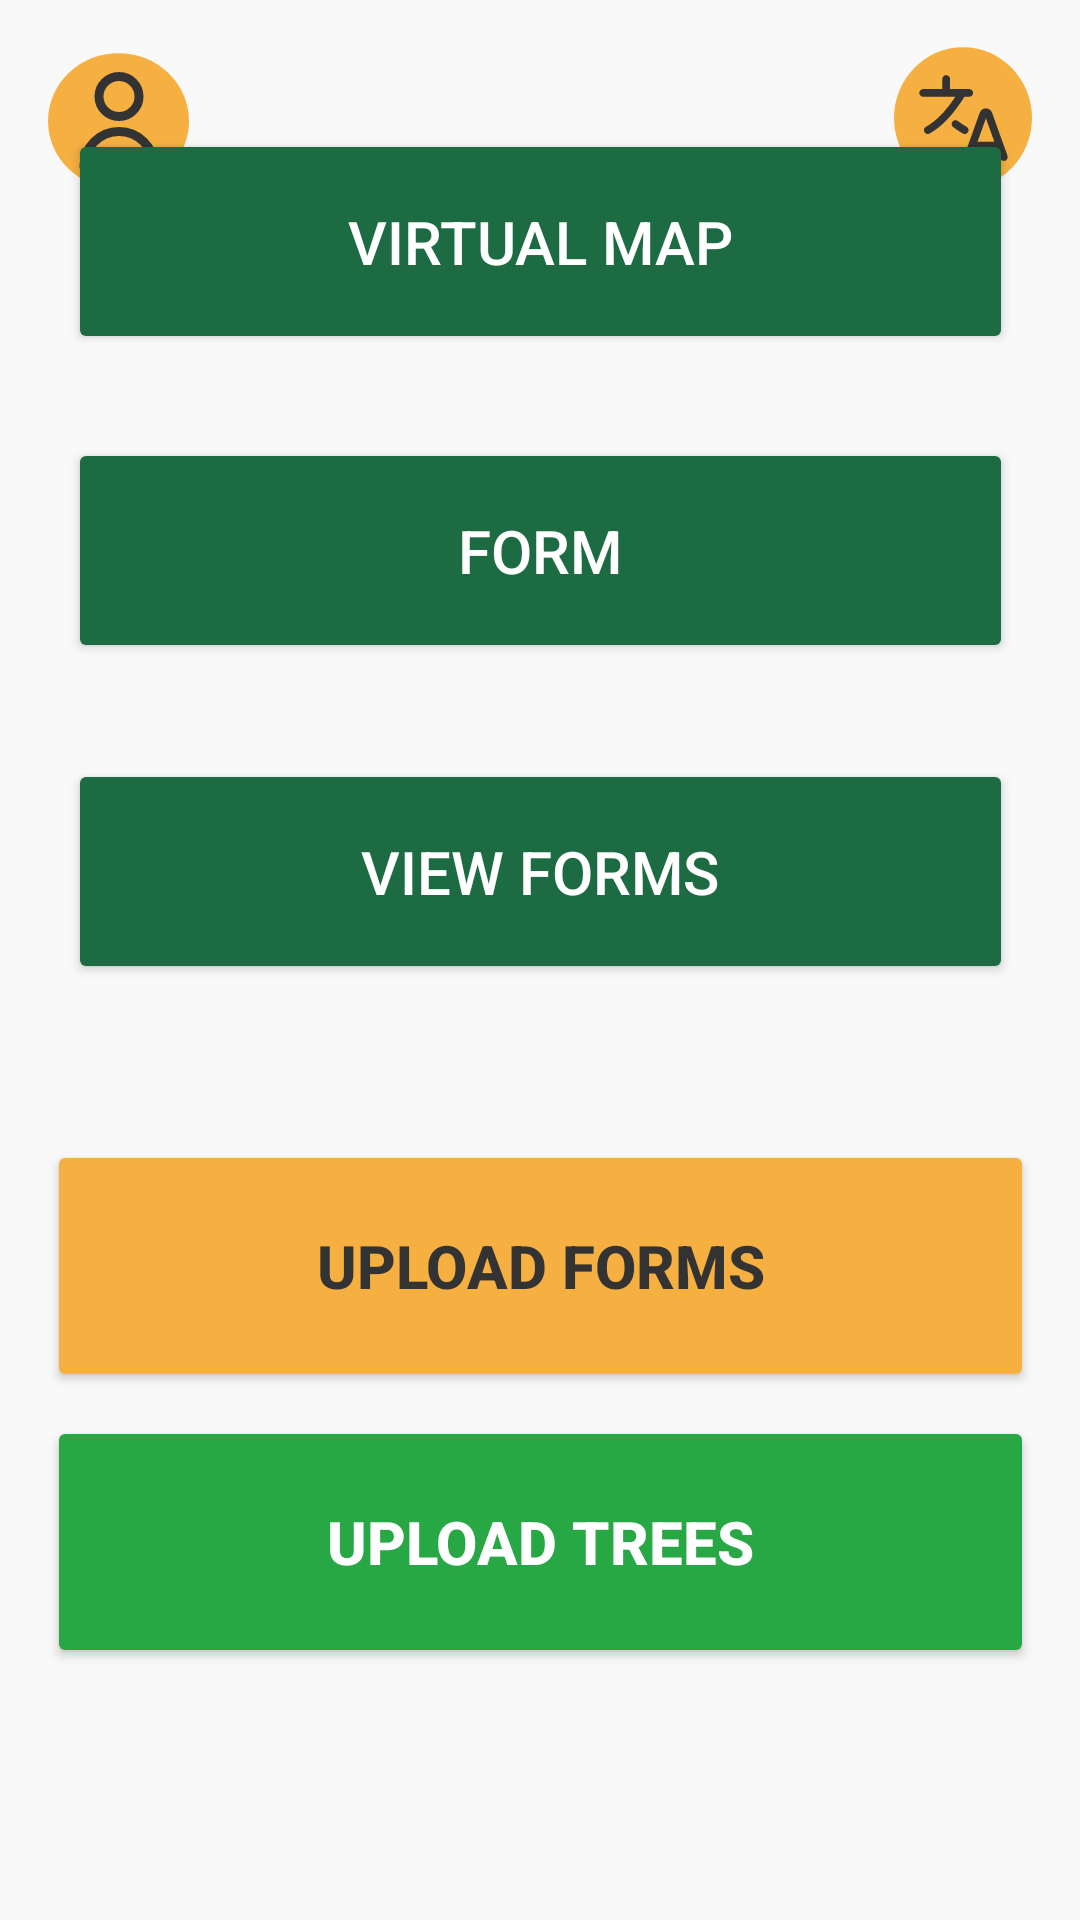

Icons on this 1080 × 1920 Android screen, each with its box as (x1, y1, x2, y2):
language: (894, 47, 1032, 190)
